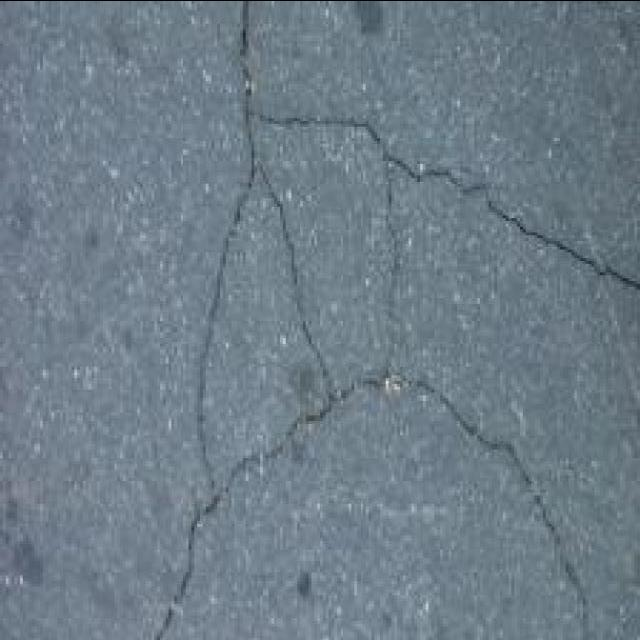SurfaceCrack: (176, 24, 614, 640)
